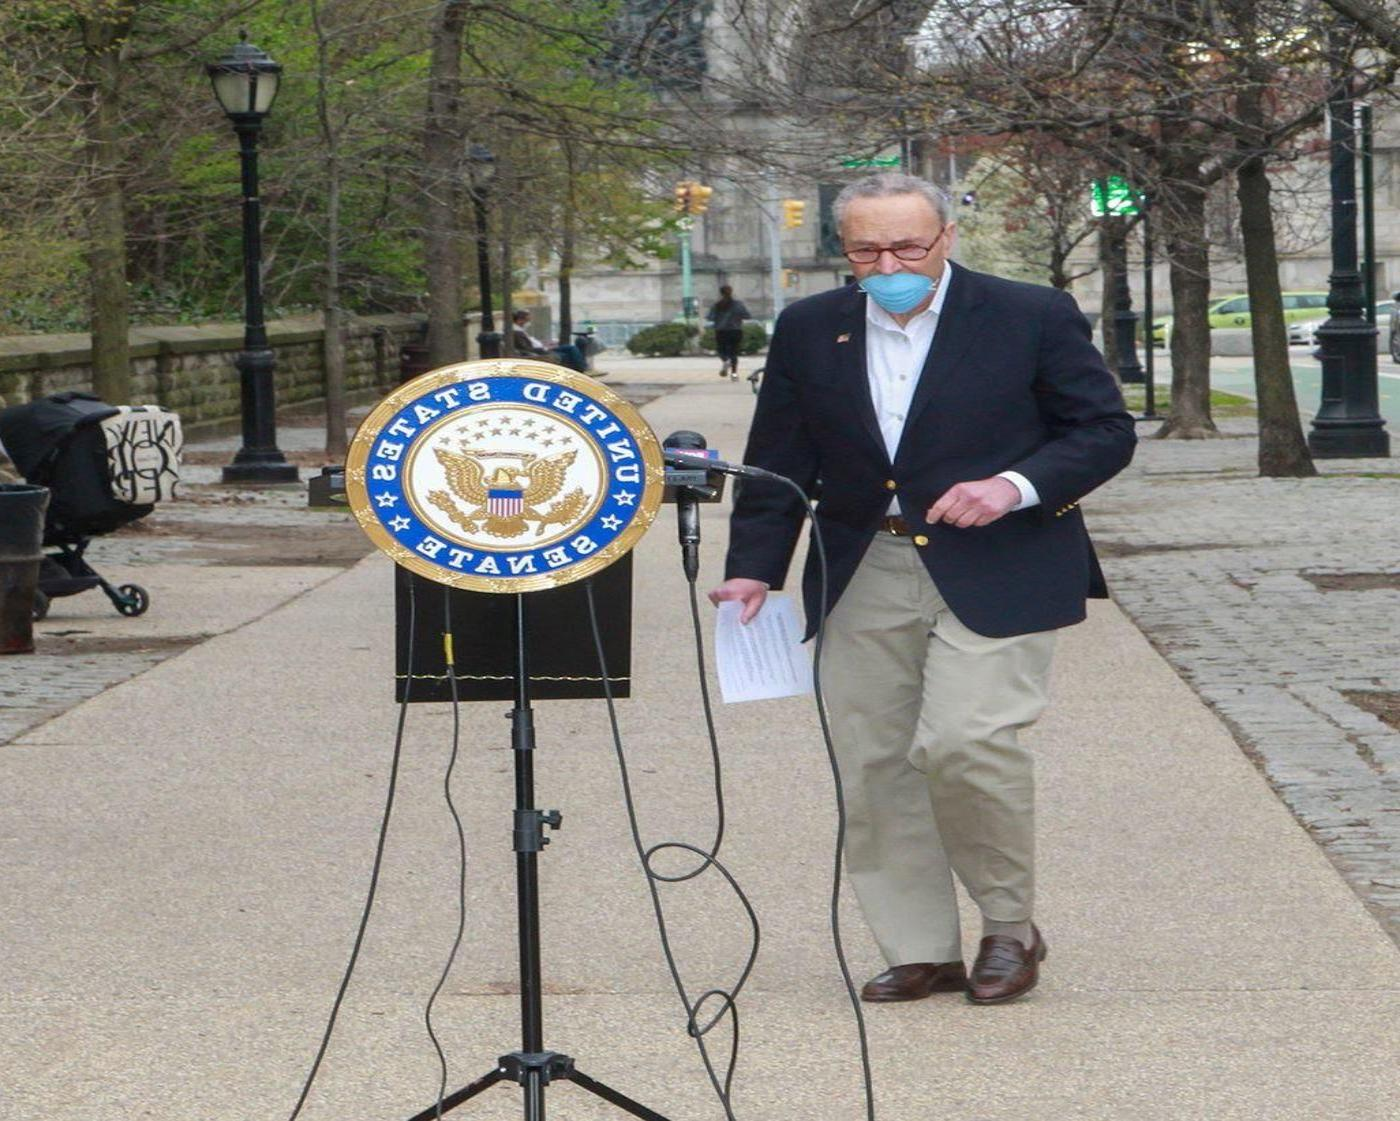mask_weared_incorrect: (829, 172, 960, 319)
